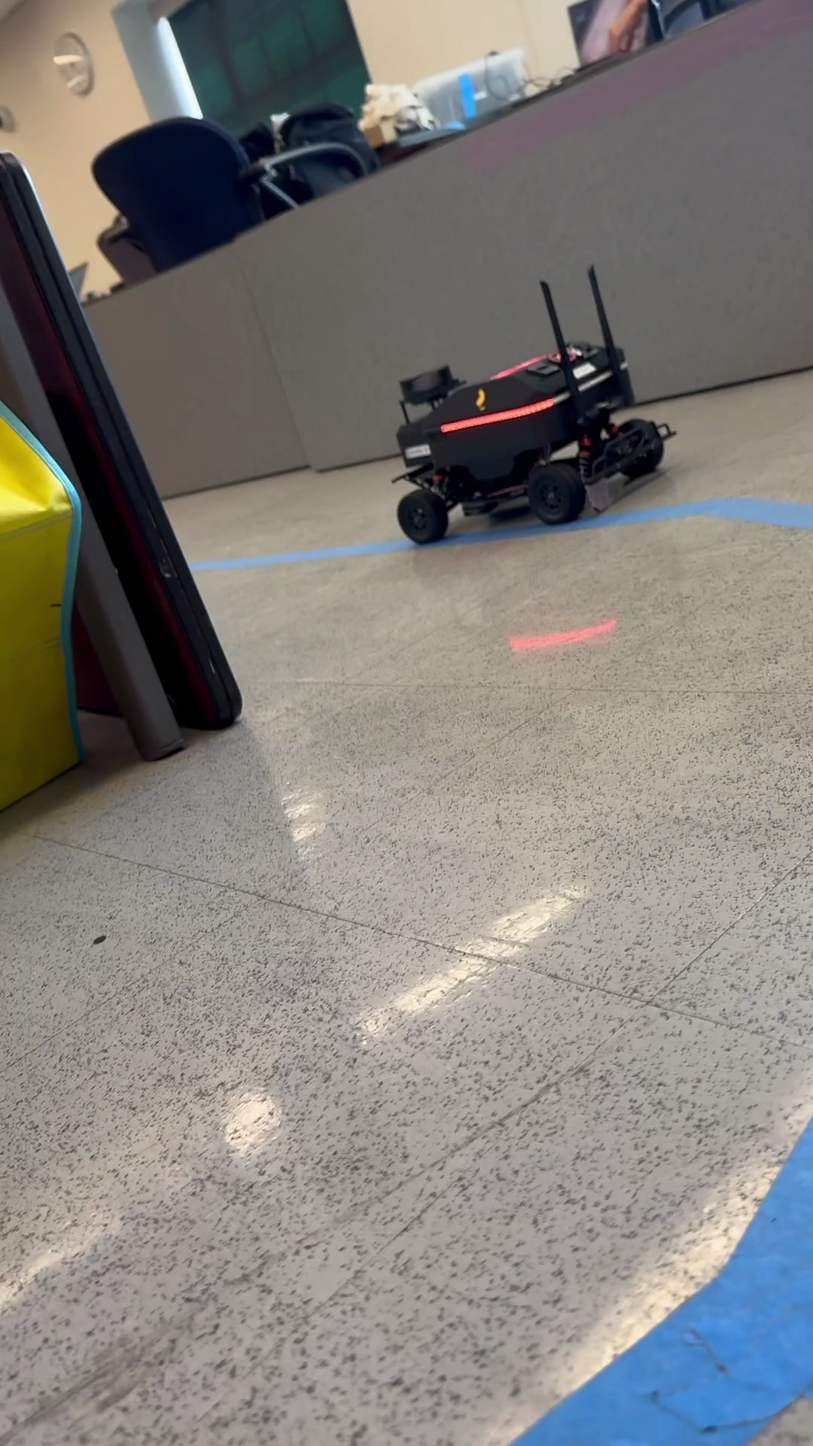racecar: (393, 269, 672, 547)
